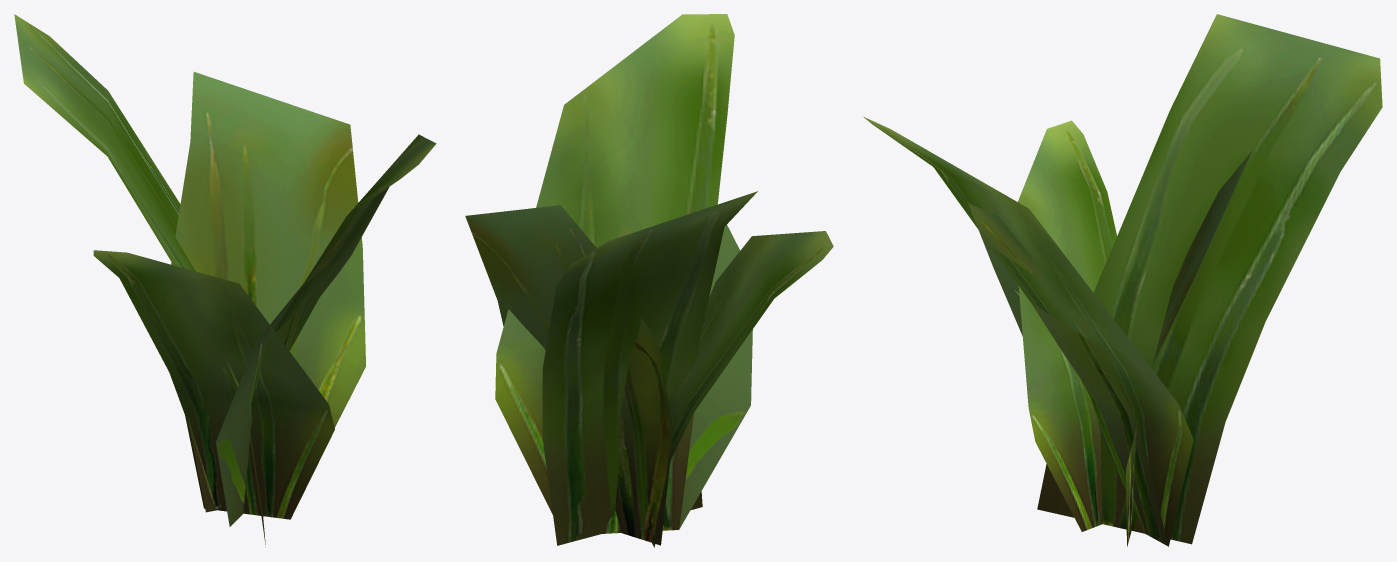
File: TER_Grass3.FBX
3 views of the same model, side by side, from view 1: azimuth 30°, elevation 25°; view 2: azimuth 150°, elevation 25°; view 3: azimuth 270°, elevation 25° (orthographic). The views are drawn at different scales.
Visible parts, largest first — view 1: grass3; view 2: grass3; view 3: grass3.
Boxes of the visible parts, x1,y1,x2,y2 form: grass3: [14, 14, 436, 544]; grass3: [465, 14, 833, 547]; grass3: [864, 14, 1382, 546].
Bounding box in the file's own units: 0.7984 × 1.15 × 1.04.
